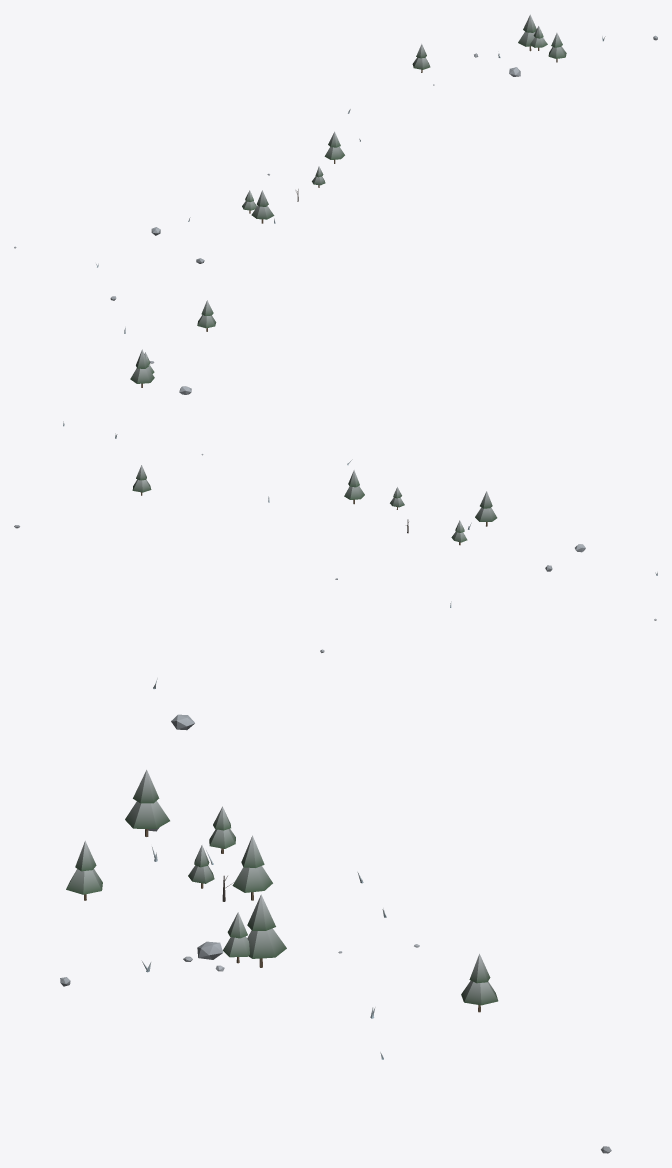
File: frost_land_scatter_c13_08_lod1.glb
The picture shows the model from 3 angles, top to bottom: view 1: azimuth 30°, elevation 25°; view 2: azimuth 150°, elevation 25°; view 3: azimuth 270°, elevation 25°; orthographic projection. The views are drawn at different scales.
Parts seen in each view (by area): view 1: frost_land_scatter_c13_08_lod1; view 2: frost_land_scatter_c13_08_lod1; view 3: frost_land_scatter_c13_08_lod1.
Boxes of the visible parts, left/top/right/bottom form: frost_land_scatter_c13_08_lod1: left=14, top=14, right=657, bottom=267; frost_land_scatter_c13_08_lod1: left=14, top=296, right=657, bottom=620; frost_land_scatter_c13_08_lod1: left=60, top=649, right=611, bottom=1153.
Bounding box in the file's own units: 236 × 65.09 × 97.41.
